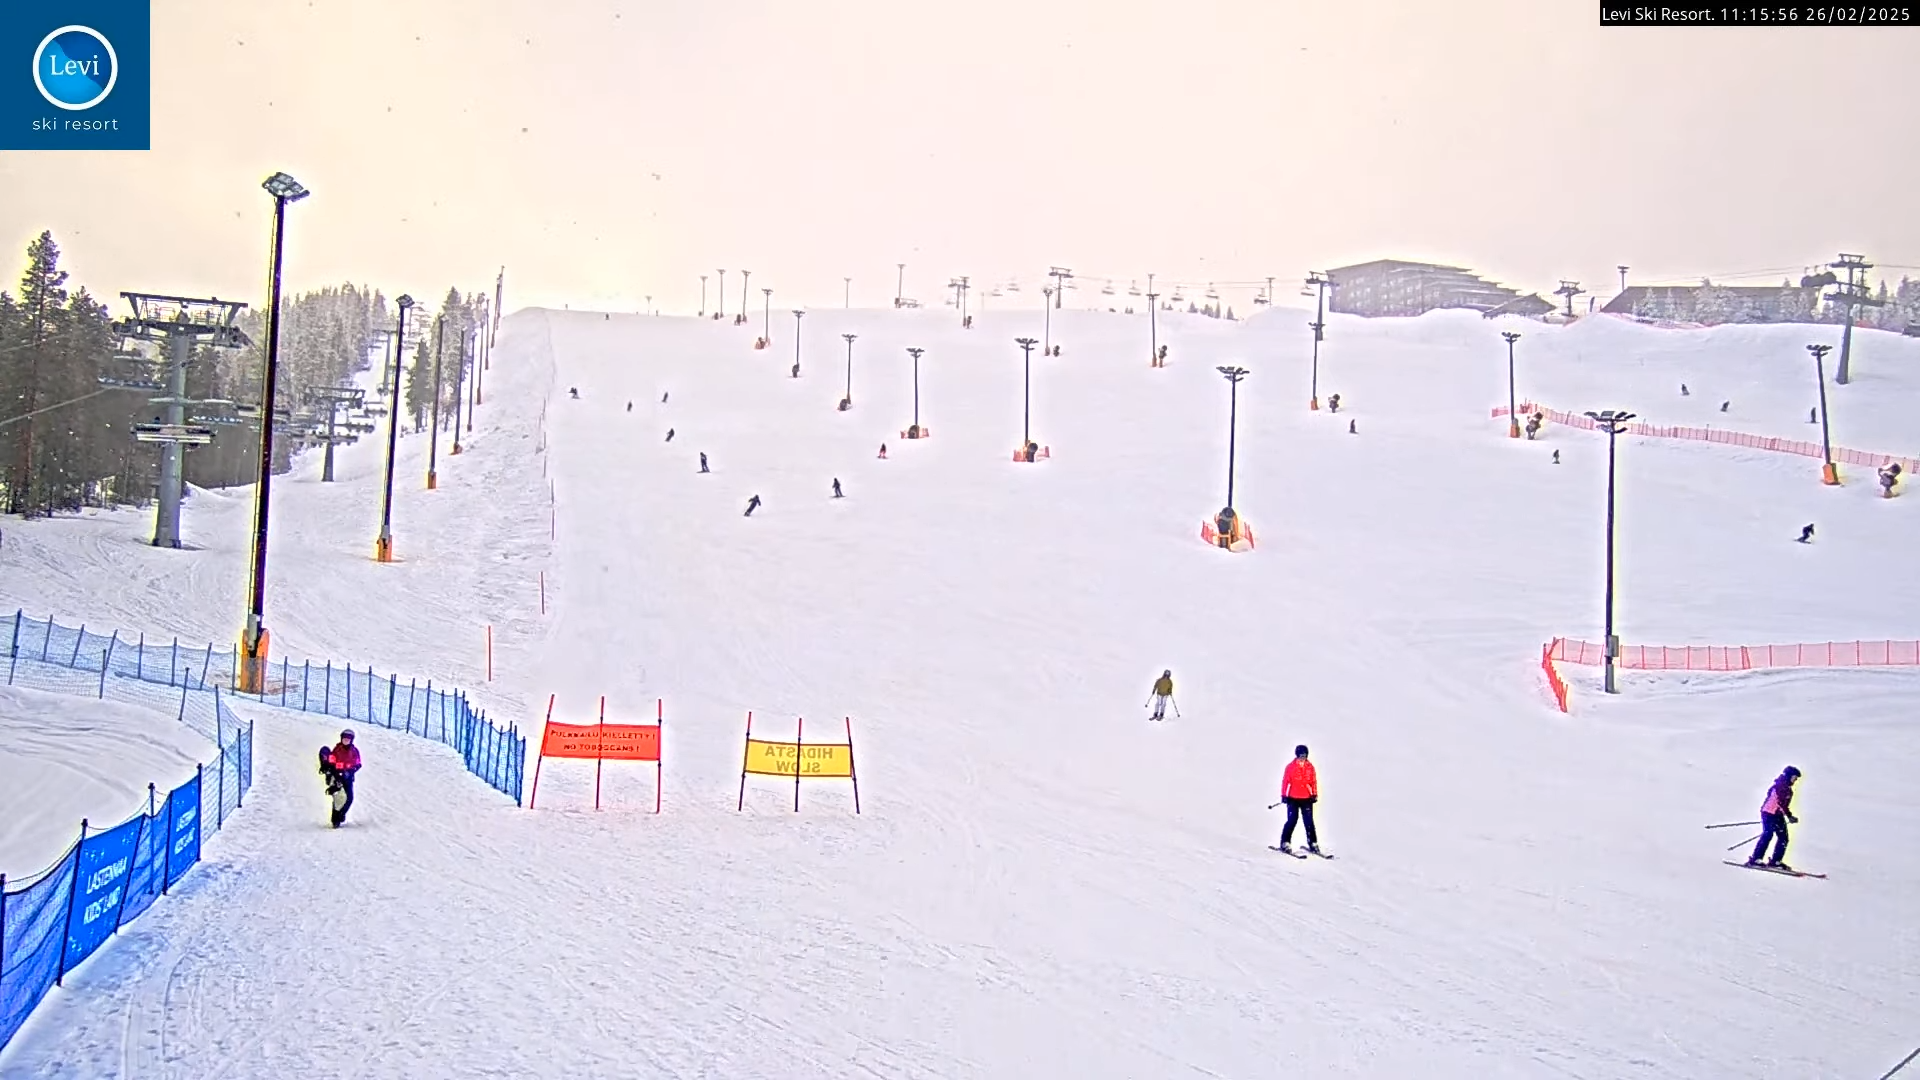skier: (1722, 760, 1830, 880), (1265, 737, 1337, 865)
